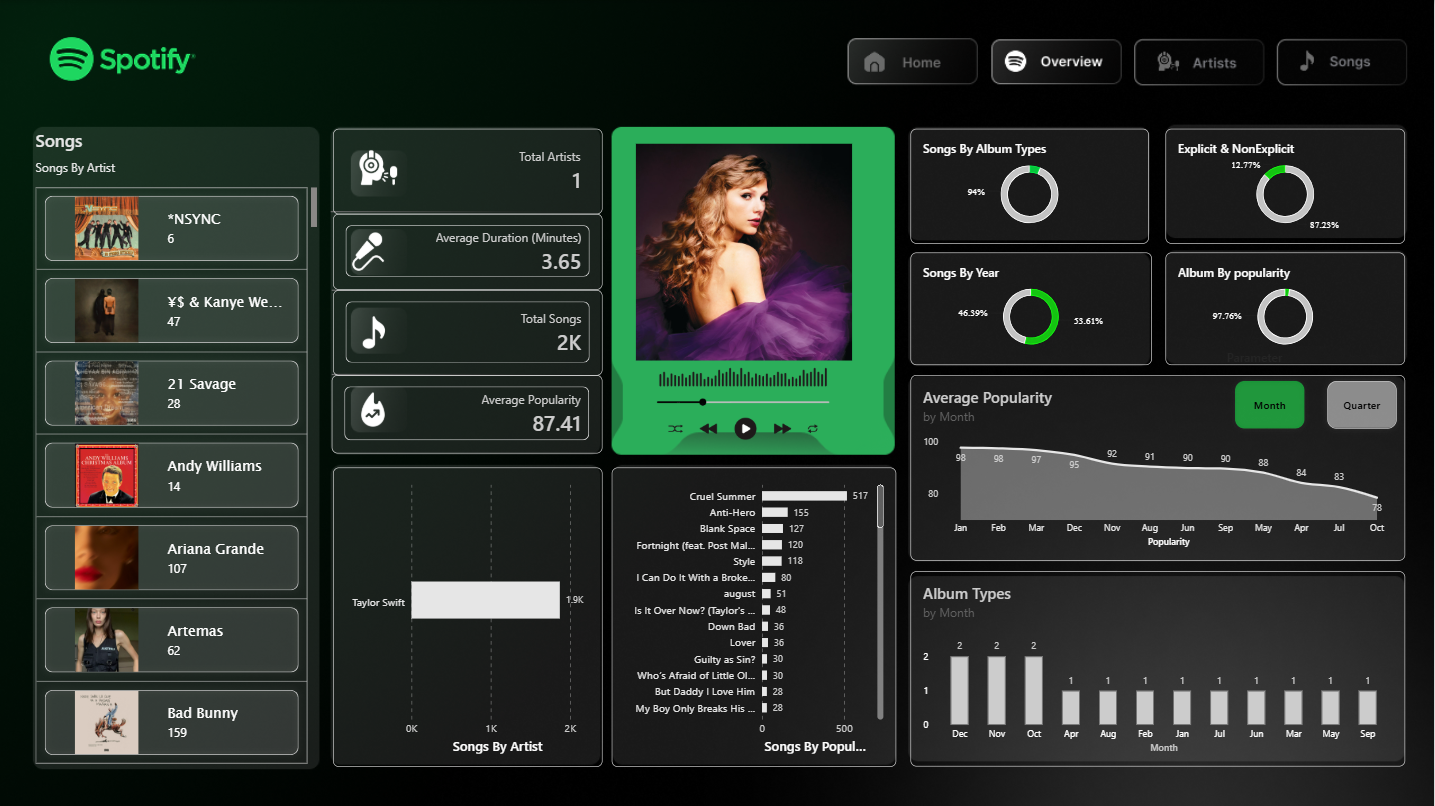

What the dashboard file says about the page in this screenshot:
{"tool":"powerbi","page":{"name":"Overview","canvas":[1920,1080],"ordinal":1},"visuals":[{"type":"image","box":[0,0,1920.1,1080.4],"z":0},{"type":"clusteredBarChart","fields":{"Category":["Top-50-World.artist"],"Y":["CountNonNull(Top-50-World.song)"]},"box":[447,624.3,360.1,399.9],"z":1000},{"type":"barChart","fields":{"Category":["Top-50-World.song"],"Y":["_Measures.Popularity Above 80"]},"box":[819.8,624.3,380,399.9],"z":2000},{"type":"areaChart","fields":{"Category":["Top-50-World.Month"],"Y":["_Measures.Average Popularity"]},"box":[1219.7,501.3,660.5,247.9],"z":3000},{"type":"advancedSlicerVisual","fields":{"Values":["Parameter 2.Parameter"]},"box":[1641.4,465.1,238.9,117.6],"z":4000},{"type":"donutChart","title":"Songs By Album Types","fields":{"Y":["_Measures.Explicit Percentage","_Measures.Album Types"]},"box":[1219.7,171.9,318.5,153.8],"z":5000},{"type":"donutChart","title":"Explicit & NonExplicit","fields":{"Y":["_Measures.Non Explicit Songs","_Measures.Explicit Songs"]},"box":[1559.9,171.9,320.3,153.8],"z":6000},{"type":"donutChart","title":"Songs By Year","fields":{"Y":["_Measures.Total Songs"],"Category":["Top-50-World.Year"]},"box":[1219.7,336.6,322.1,150.2],"z":7000},{"type":"donutChart","title":"Album By popularity","fields":{"Y":["_Measures.Album Types","_Measures.Average Popularity"]},"box":[1559.9,336.6,320.3,150.2],"z":8000},{"type":"clusteredColumnChart","fields":{"Category":["Top-50-World.Month"],"Y":["_Measures.Album Types"]},"box":[1219.7,763.7,660.5,260.6],"z":9000},{"type":"cardVisual","fields":{"Data":["_Measures.Total Artists"]},"box":[447,171.9,360.1,114],"z":10000},{"type":"cardVisual","fields":{"Data":["_Measures.Total Songs"]},"box":[447,387.3,360.1,114],"z":11000},{"type":"cardVisual","fields":{"Data":["_Measures.Average Duration (Minutes)"]},"box":[447,285.9,360.1,101.3],"z":12000},{"type":"cardVisual","fields":{"Data":["_Measures.Average Popularity"]},"box":[445.2,501.3,361.9,105],"z":13000},{"type":"image","box":[468.7,199.1,77.8,50.7],"z":14000},{"type":"image","box":[468.7,309.5,50.7,54.3],"z":15000},{"type":"image","box":[468.7,421.7,65.1,43.4],"z":16000},{"type":"image","box":[468.7,524.8,77.8,45.2],"z":17000},{"type":"advancedSlicerVisual","title":"Songs","fields":{"Values":["Top-50-World.artist"],"Label":["_Measures.Top 10 Songs"]},"box":[50.7,171.9,376.4,852.4],"z":18000},{"type":"image","box":[807.1,191.8,380,289.5],"z":19000},{"type":"image","box":[845.1,407.2,300.4,264.2],"z":20000},{"type":"actionButton","box":[1136.5,52.5,168.3,57.9],"z":21000},{"type":"actionButton","box":[1521.9,52.5,168.3,57.9],"z":22000},{"type":"actionButton","box":[1721,52.5,168.3,57.9],"z":23000}]}

Visuals, with their boxes in screenshot pixels (x1, y1, x2, y2), scaled from the page's 1920x1080 canvas onto the 1435x806 screenshot:
image: <box>0,0,1434,805</box>
clusteredBarChart - Top-50-World.artist x CountNonNull(Top-50-World.song): <box>334,466,603,764</box>
barChart - Top-50-World.song x _Measures.Popularity Above 80: <box>613,466,897,764</box>
areaChart - Top-50-World.Month x _Measures.Average Popularity: <box>912,374,1405,559</box>
advancedSlicerVisual - Parameter 2.Parameter: <box>1227,347,1405,435</box>
"Songs By Album Types" donutChart: <box>912,128,1150,243</box>
"Explicit & NonExplicit" donutChart: <box>1166,128,1405,243</box>
"Songs By Year" donutChart: <box>912,251,1152,363</box>
"Album By popularity" donutChart: <box>1166,251,1405,363</box>
clusteredColumnChart - Top-50-World.Month x _Measures.Album Types: <box>912,570,1405,764</box>
cardVisual - _Measures.Total Artists: <box>334,128,603,213</box>
cardVisual - _Measures.Total Songs: <box>334,289,603,374</box>
cardVisual - _Measures.Average Duration (Minutes): <box>334,213,603,289</box>
cardVisual - _Measures.Average Popularity: <box>333,374,603,452</box>
image: <box>350,149,408,186</box>
image: <box>350,231,388,272</box>
image: <box>350,315,399,347</box>
image: <box>350,392,408,425</box>
"Songs" advancedSlicerVisual: <box>38,128,319,764</box>
image: <box>603,143,887,359</box>
image: <box>632,304,856,501</box>
actionButton: <box>849,39,975,82</box>
actionButton: <box>1137,39,1263,82</box>
actionButton: <box>1286,39,1412,82</box>
